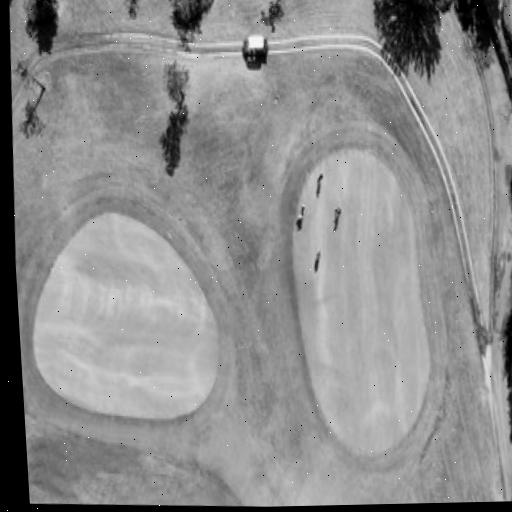tree-top: (393, 0, 466, 29), (153, 53, 191, 103), (17, 0, 63, 33), (170, 0, 215, 32)
